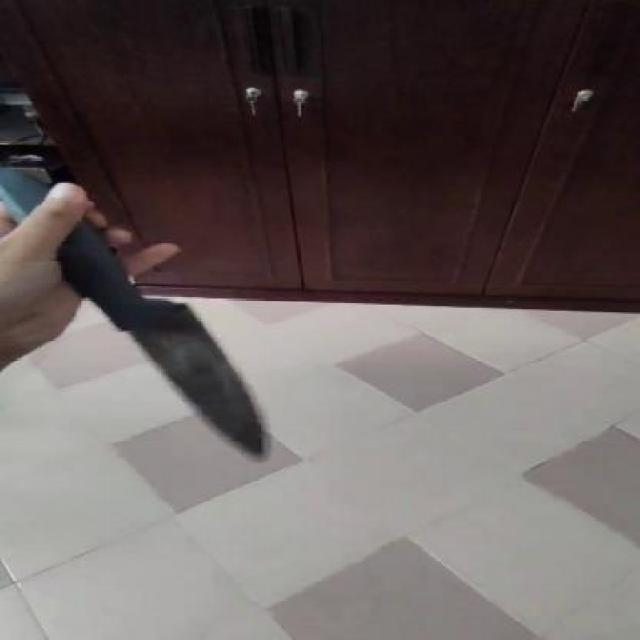-: (94, 301, 291, 454)
